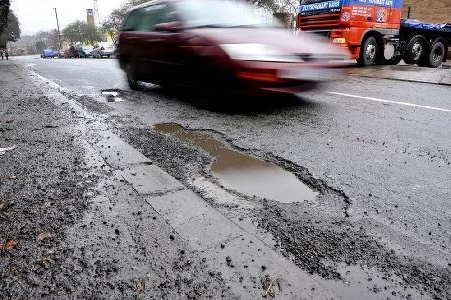pothole: (148, 117, 328, 204), (97, 86, 126, 102)
